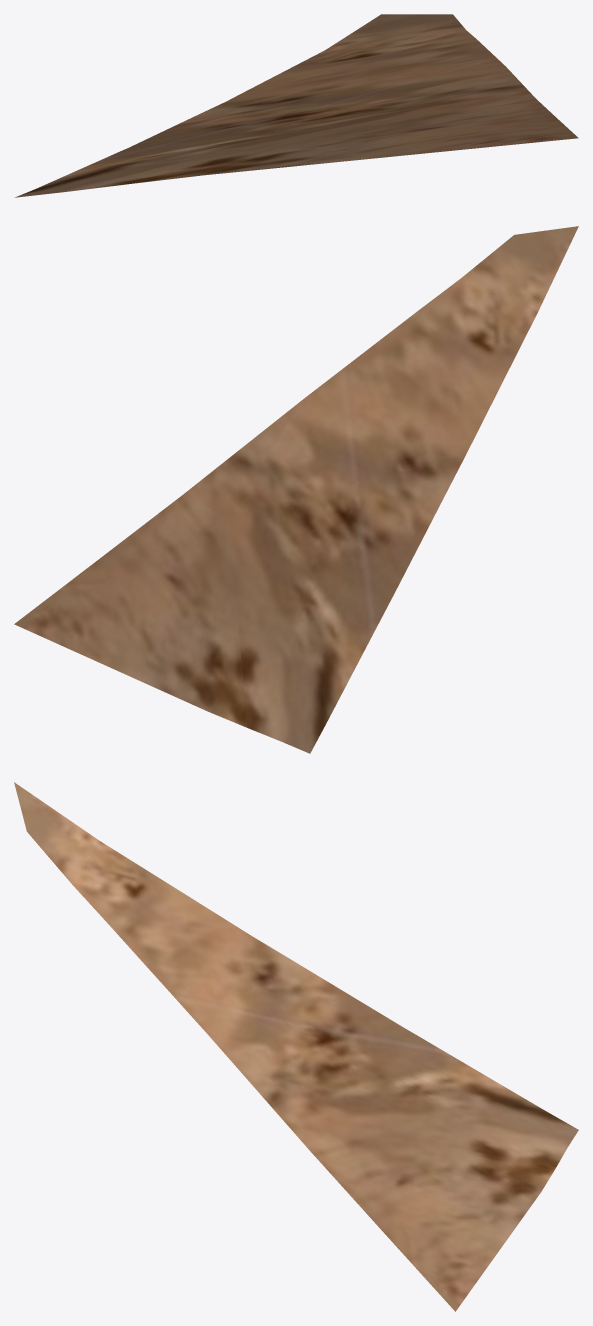
The picture shows the model from 3 angles, top to bottom: view 1: azimuth 30°, elevation 25°; view 2: azimuth 150°, elevation 25°; view 3: azimuth 270°, elevation 25°; orthographic projection. The views are drawn at different scales.
Bounding box in the file's own units: 0.638 × 0.5686 × 0.8369.
Materials: 1 (1 with a texture image).
